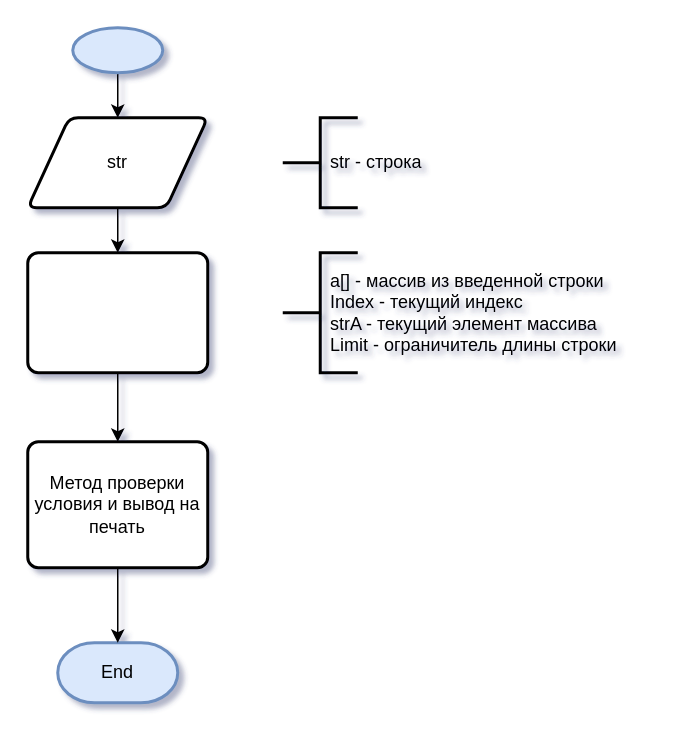
Image size: 677x738. Some labels were removed from this diagram. Each missing label, with the centre of its shape:
a[] Index = 0 strA = a[Index] Limit = 3: the point at 117,312
Start: the point at 117,50
